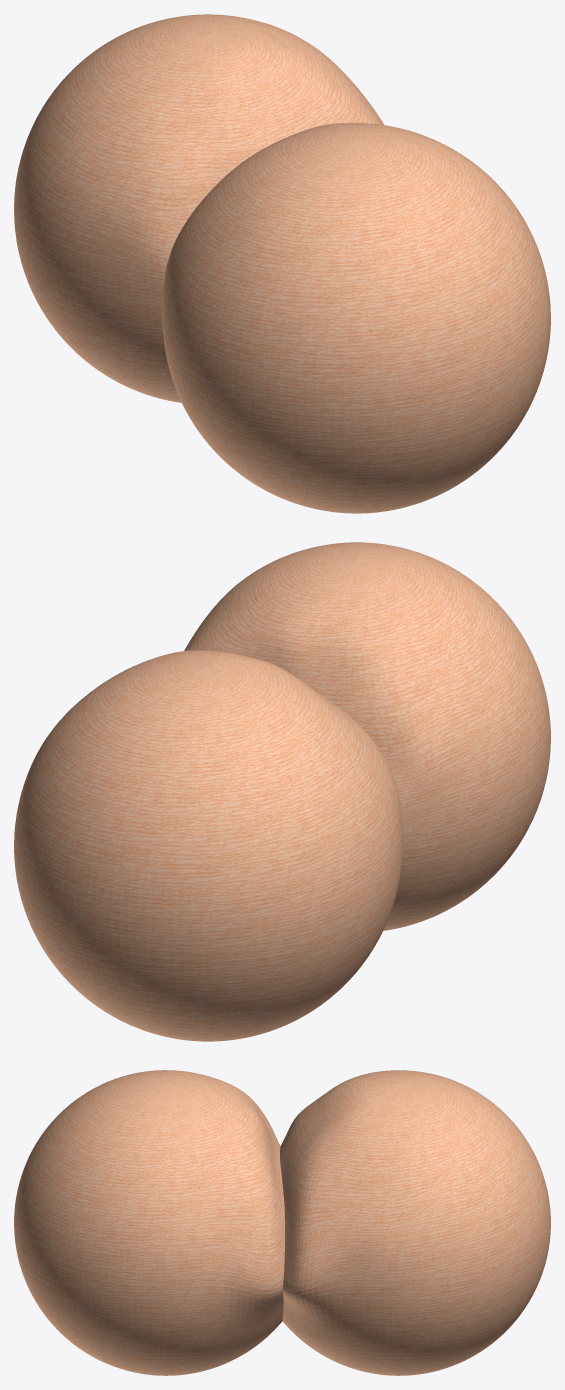
Rendered from Buttcheek3.fbx.
3 renders of one model, top to bottom at view 1: azimuth 30°, elevation 25°; view 2: azimuth 150°, elevation 25°; view 3: azimuth 270°, elevation 25°, orthographic. The views are drawn at different scales.
Parts seen in each view (by area): view 1: Sphere.001; view 2: Sphere.001; view 3: Sphere.001.
Part boxes in pixels (x1=…): Sphere.001: x1=14, y1=14, x2=550, y2=513; Sphere.001: x1=14, y1=542, x2=550, y2=1041; Sphere.001: x1=14, y1=1070, x2=550, y2=1375.
Size of the model in its own units: 197 by 199 by 349.
